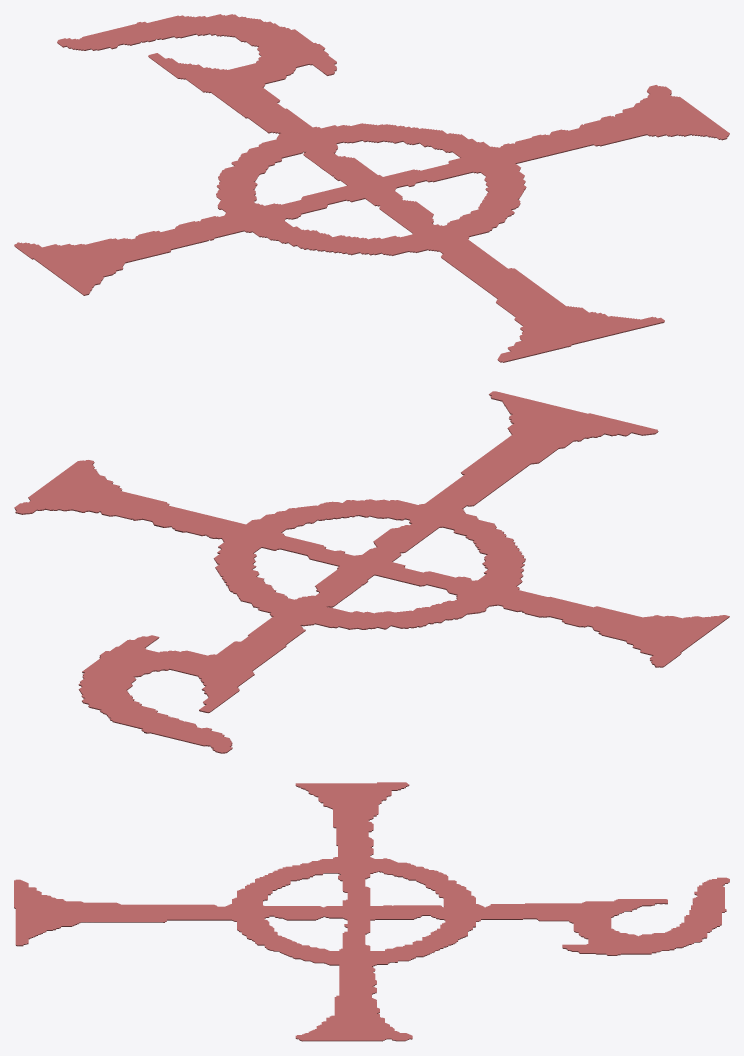
File: aresden.glb
3 renders of one model, top to bottom at view 1: azimuth 30°, elevation 25°; view 2: azimuth 150°, elevation 25°; view 3: azimuth 270°, elevation 25°, orthographic. The views are drawn at different scales.
Parts seen in each view (by area): view 1: aresden; view 2: aresden; view 3: aresden.
Part boxes in pixels (x1,y1,x2,y2): aresden: [14, 14, 729, 362]; aresden: [14, 391, 729, 753]; aresden: [14, 782, 729, 1041].
Bounding box in the file's own units: 0.0974 × 0.0002 × 0.1142.
